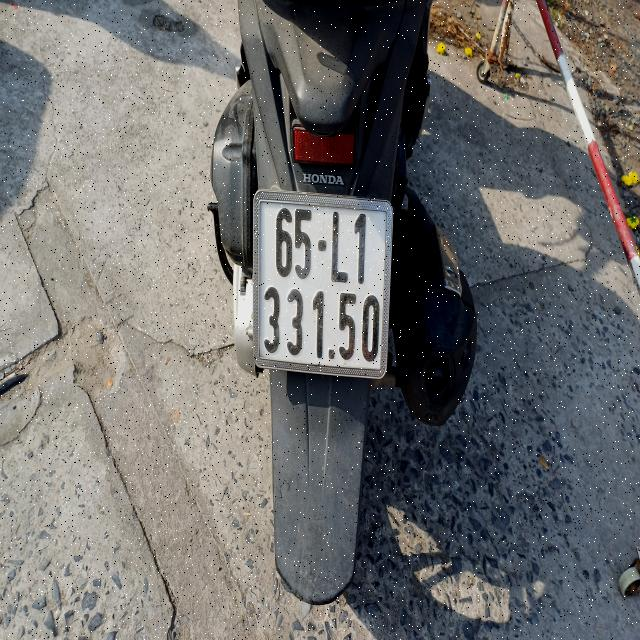0: (362, 295, 382, 369)
1: (354, 206, 369, 285), (312, 288, 326, 359)
3: (262, 284, 282, 354), (284, 289, 304, 356)
5: (334, 286, 361, 366), (291, 205, 315, 278)
6: (274, 205, 294, 276)
L: (328, 202, 351, 292)
